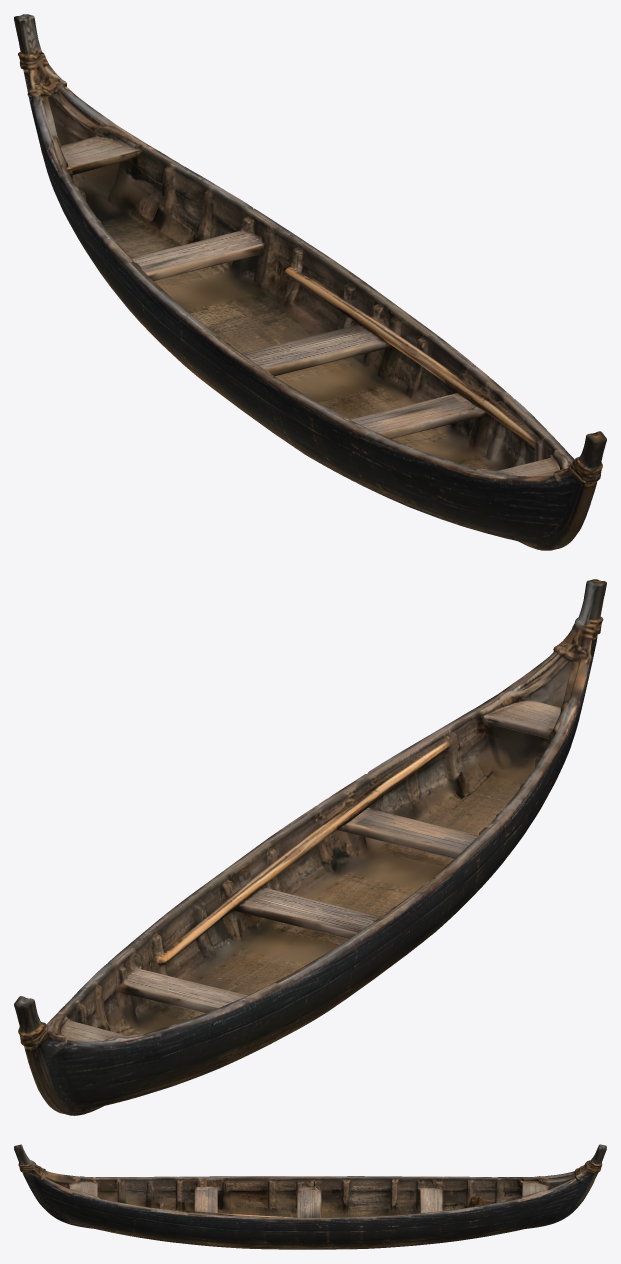
File: boat_mashoof.glb
3 views of the same model, one above another, from view 1: azimuth 30°, elevation 25°; view 2: azimuth 150°, elevation 25°; view 3: azimuth 270°, elevation 25° (orthographic). The views are drawn at different scales.
Parts seen in each view (by area): view 1: node_0; view 2: node_0; view 3: node_0.
Part boxes in pixels (box(x1,y1,x2,y2)): node_0: box(14, 14, 606, 550); node_0: box(14, 579, 606, 1115); node_0: box(14, 1144, 606, 1249).
Bounding box in the file's own units: 0.2081 × 0.2029 × 1.18.
1 material, 1 textured.
